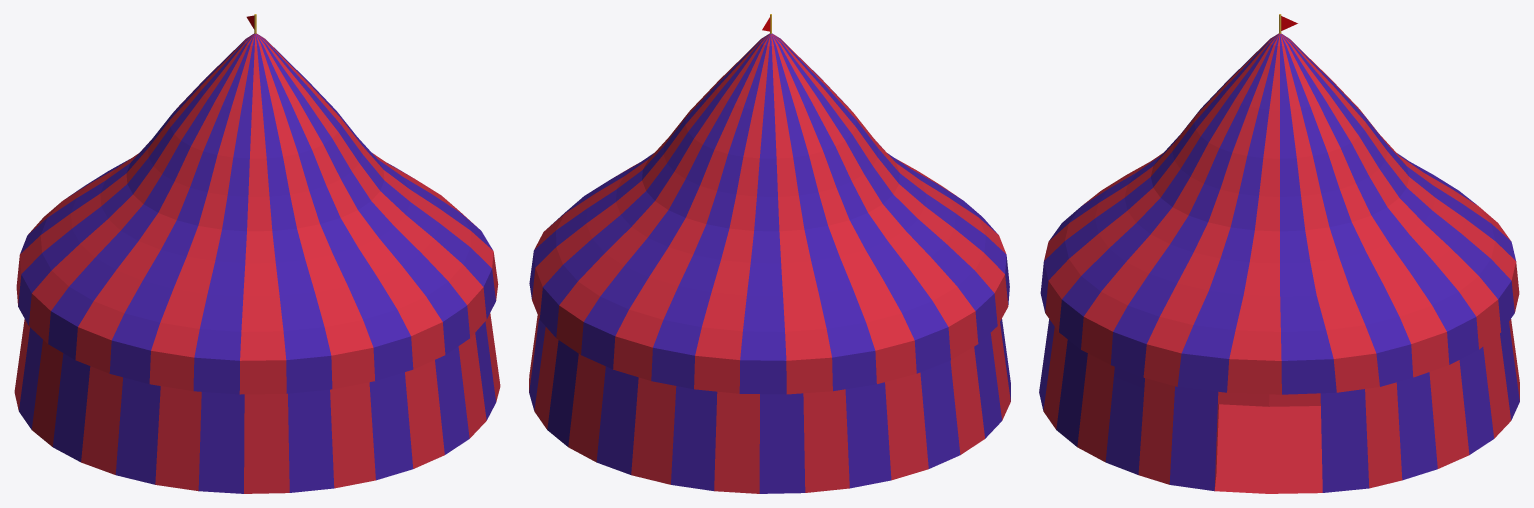
Rendered from Circo.fbx.
The picture shows the model from 3 angles, left to right: view 1: azimuth 30°, elevation 25°; view 2: azimuth 150°, elevation 25°; view 3: azimuth 270°, elevation 25°; orthographic projection.
Parts seen in each view (by area): view 1: Cylinder; view 2: Cylinder; view 3: Cylinder.
Boxes of the visible parts, <box> form: Cylinder: <box>14,33,500,493</box>; Cylinder: <box>529,33,1010,493</box>; Cylinder: <box>1039,33,1519,493</box>.
Size of the model in its own units: 441 by 386 by 440.
